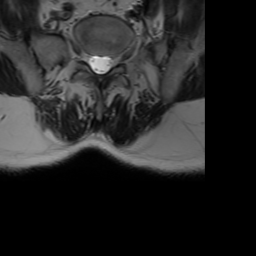CCS_normal: (96, 47, 103, 82)
LFS_normal: (112, 48, 121, 72)
LLS_normal: (103, 49, 112, 76)
RFS_normal: (80, 44, 88, 72)
RLS_normal: (88, 49, 96, 76)
